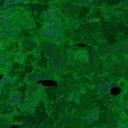alloviz: (36, 77, 57, 87), (108, 85, 121, 96), (75, 41, 87, 48)
